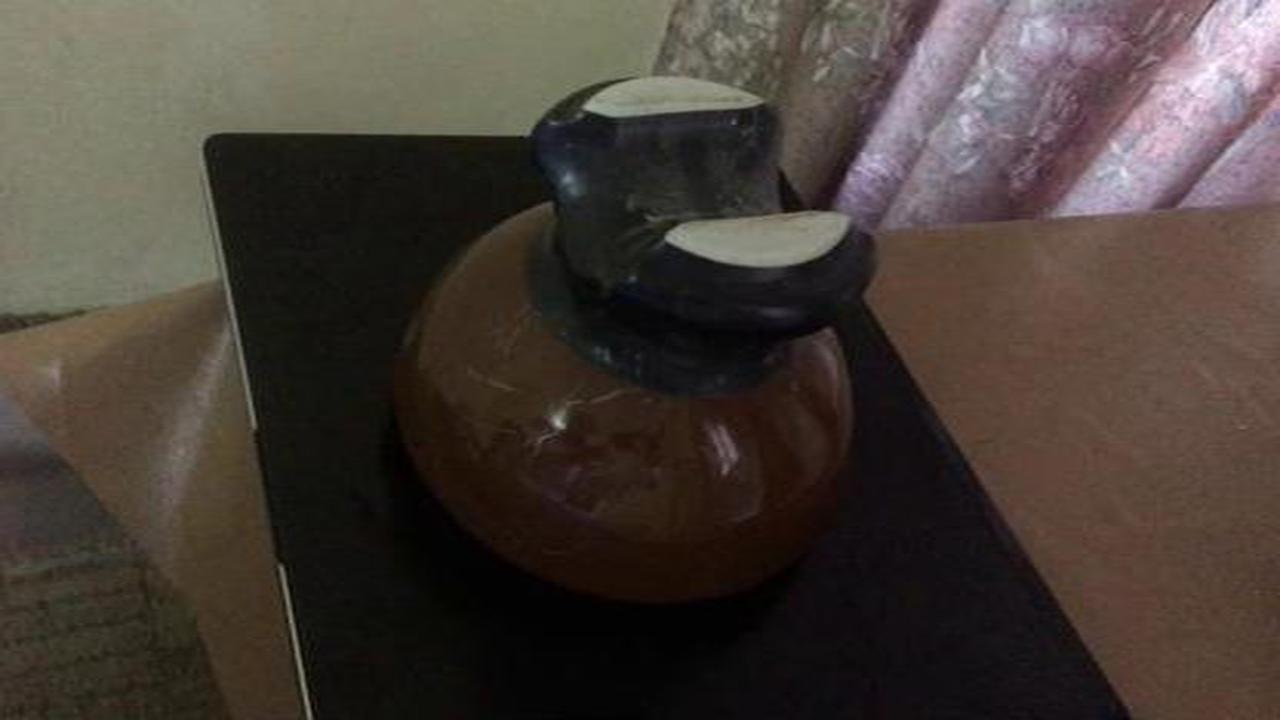insulator_pin: (373, 56, 902, 637)
